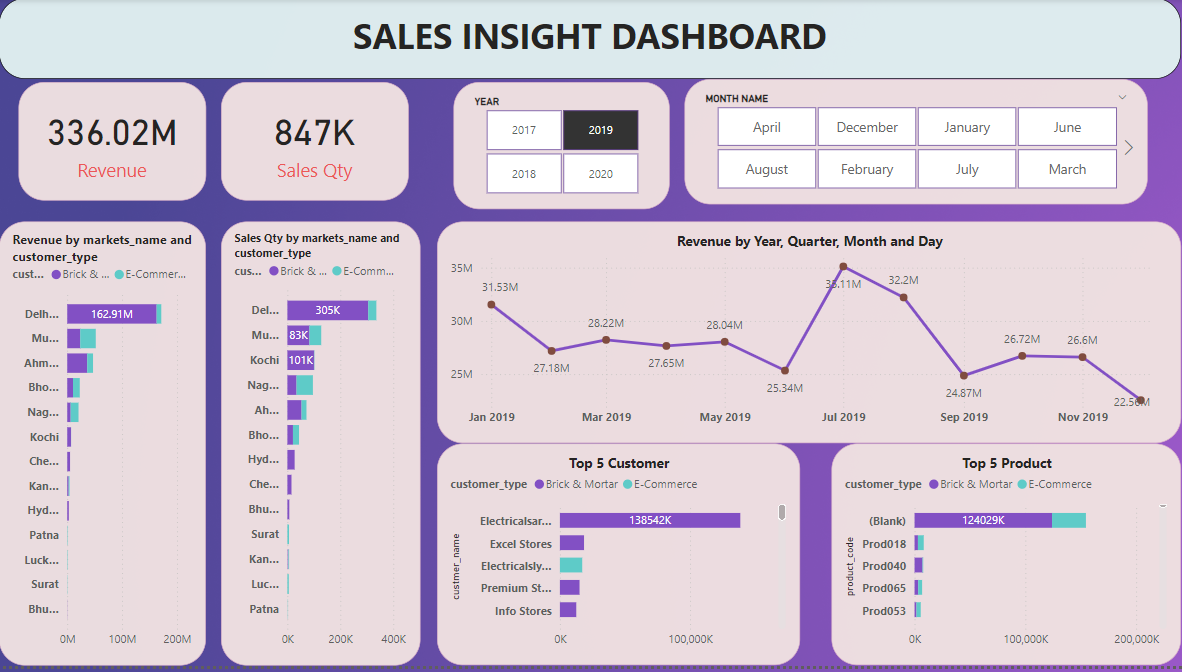

The page's visual inventory and layout, read from the dashboard file:
{"tool":"powerbi","page":{"name":"Page 1","canvas":[1280,720],"ordinal":0},"visuals":[{"type":"card","fields":{"Values":["BaseMeasures.Revenue"]},"box":[21,90.7,202.4,127.9],"z":0},{"type":"card","fields":{"Values":["BaseMeasures.Sales Qty"]},"box":[239.6,90.7,202.4,127.9],"z":1000},{"type":"barChart","fields":{"Y":["BaseMeasures.Revenue"],"Category":["sales markets.markets_name"],"Series":["sales customers.customer_type"]},"box":[0,241.3,223.5,479.3],"z":2000},{"type":"barChart","fields":{"Y":["BaseMeasures.Sales Qty"],"Category":["sales markets.markets_name"],"Series":["sales customers.customer_type"]},"box":[239.6,241.3,215.4,479.3],"z":3000},{"type":"slicer","fields":{"Values":["sales date.year"]},"box":[455,90.7,273.6,127.9],"z":4000},{"type":"slicer","fields":{"Values":["sales date.month_name"]},"box":[740,87.4,500,135],"z":5000},{"type":"barChart","title":"Top 5 Customer","fields":{"Category":["sales customers.custmer_name"],"Y":["BaseMeasures.Revenue"],"Series":["sales customers.customer_type"]},"box":[482.5,480.9,391.9,239.6],"z":6000},{"type":"barChart","title":"Top 5 Product","fields":{"Y":["BaseMeasures.Revenue"],"Category":["sales products.product_code"],"Series":["sales customers.customer_type"]},"box":[898.7,480.9,377.3,239.6],"z":7000},{"type":"lineChart","fields":{"Y":["BaseMeasures.Revenue"],"Category":["sales date.cy_date.Variation.Date Hierarchy.Year","sales date.cy_date.Variation.Date Hierarchy.Quarter","sales date.cy_date.Variation.Date Hierarchy.Month","sales date.cy_date.Variation.Date Hierarchy.Day"]},"box":[472.8,241.3,803.1,228.3],"z":8000},{"type":"textbox","box":[0,0,1276,87.4],"z":9000}]}

Visuals, with their boxes in screenshot pixels (x1, y1, x2, y2), scaled from the page's 1280x720 canvas onto the 1182x672 screenshot:
card - BaseMeasures.Revenue: 19, 85, 206, 204
card - BaseMeasures.Sales Qty: 221, 85, 408, 204
barChart - BaseMeasures.Revenue x sales markets.markets_name: 0, 225, 206, 671
barChart - BaseMeasures.Sales Qty x sales markets.markets_name: 221, 225, 420, 671
slicer - sales date.year: 420, 85, 673, 204
slicer - sales date.month_name: 683, 82, 1145, 208
"Top 5 Customer" barChart: 446, 449, 807, 671
"Top 5 Product" barChart: 830, 449, 1178, 671
lineChart - BaseMeasures.Revenue x sales date.cy_date.Variation.Date Hierarchy.Year: 437, 225, 1178, 438
textbox: 0, 0, 1178, 82
